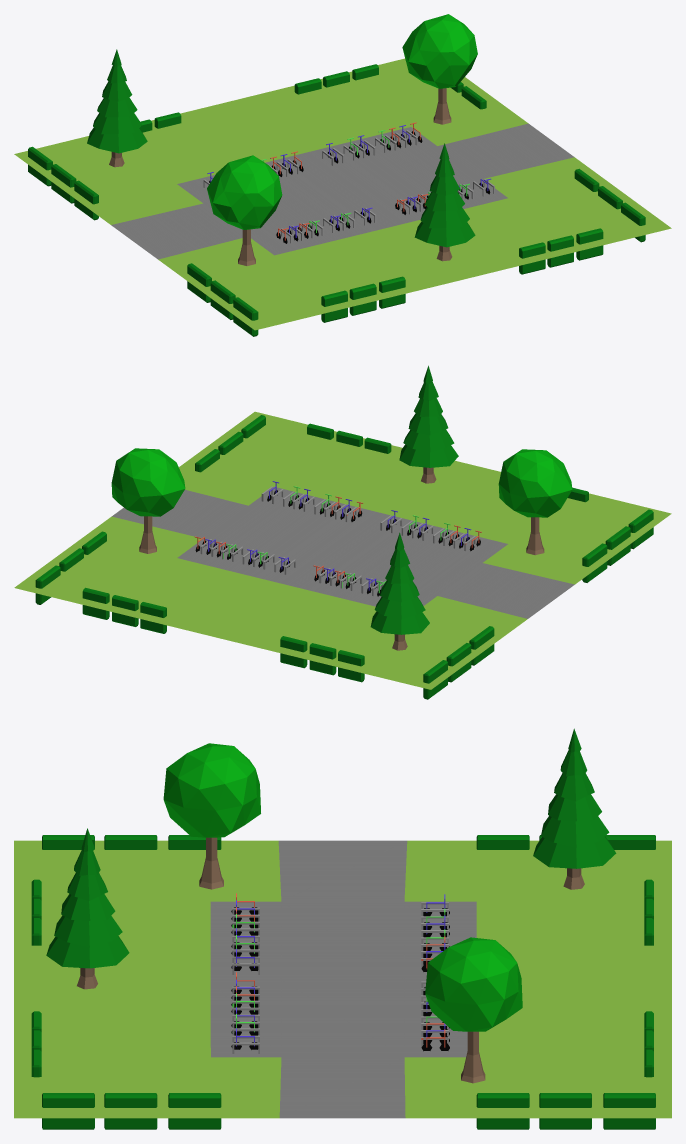
The model's file is velo1.glb.
The picture shows the model from 3 angles, top to bottom: view 1: azimuth 30°, elevation 25°; view 2: azimuth 150°, elevation 25°; view 3: azimuth 270°, elevation 25°; orthographic projection. The views are drawn at different scales.
Visible parts, largest first — view 1: map.003; view 2: map.003; view 3: map.003.
Part boxes in pixels (<box>): map.003: <box>14,14,671,336</box>; map.003: <box>14,365,671,699</box>; map.003: <box>14,728,671,1129</box>.
Size of the model in its own units: 15 by 4.52 by 15.01.
6 materials, 6 textured.
